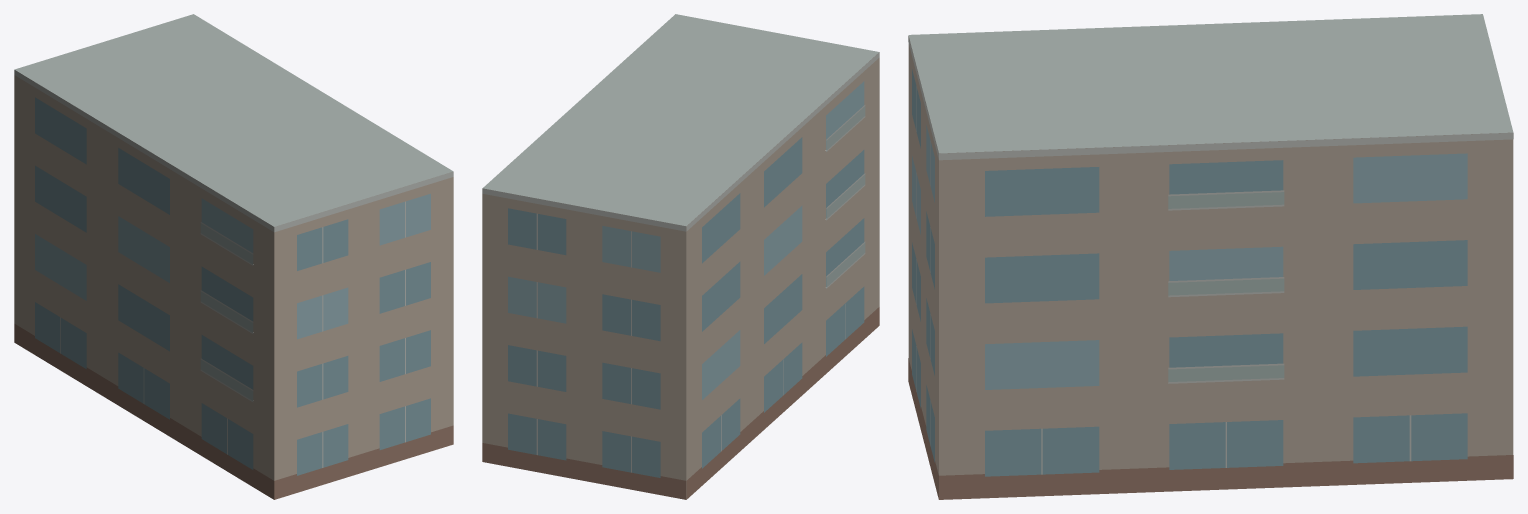
The model's file is survey-upis-32572591.glb.
3 renders of one model, left to right at view 1: azimuth 30°, elevation 25°; view 2: azimuth 150°, elevation 25°; view 3: azimuth 270°, elevation 25°, orthographic. The views are drawn at different scales.
Parts seen in each view (by area): view 1: survey-upis-32572591.tmp; view 2: survey-upis-32572591.tmp; view 3: survey-upis-32572591.tmp.
Part boxes in pixels (left/top/right/bottom): survey-upis-32572591.tmp: left=14, top=14, right=453, bottom=499; survey-upis-32572591.tmp: left=482, top=14, right=879, bottom=499; survey-upis-32572591.tmp: left=908, top=14, right=1513, bottom=499.
Bounding box in the file's own units: 10.63 × 12.3 × 19.48.
